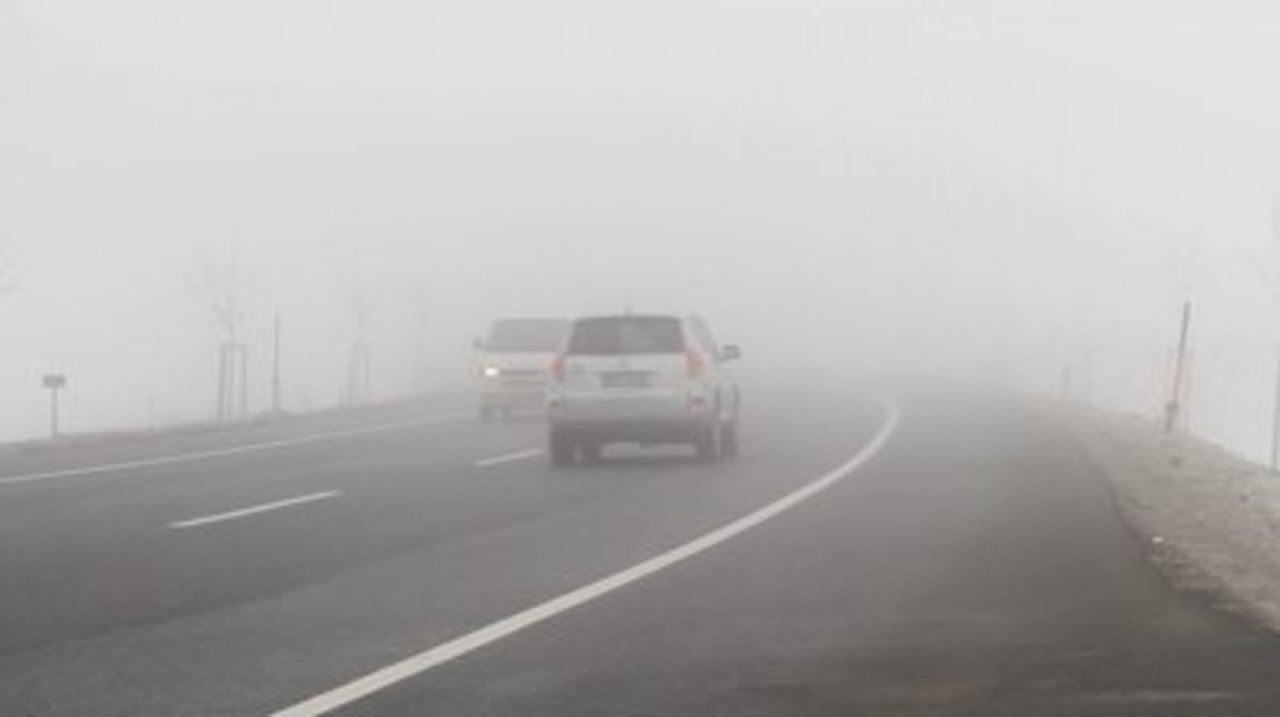car: (543, 315, 742, 470), (471, 317, 566, 421)
